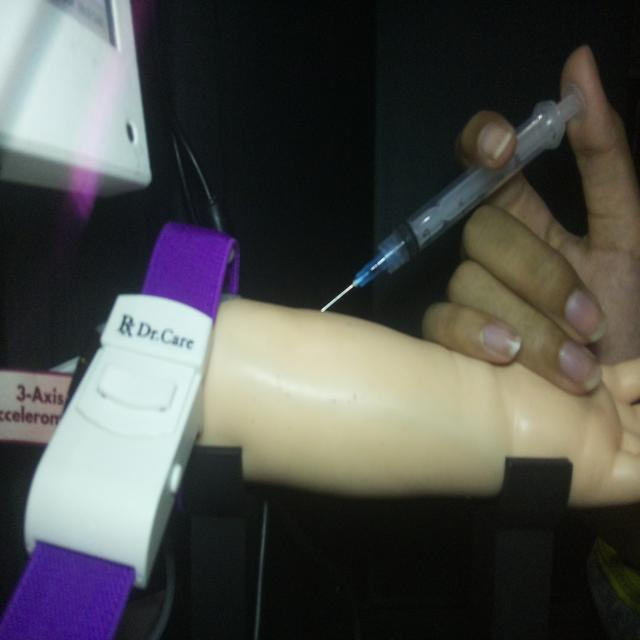28 degrees: (318, 80, 586, 314)
